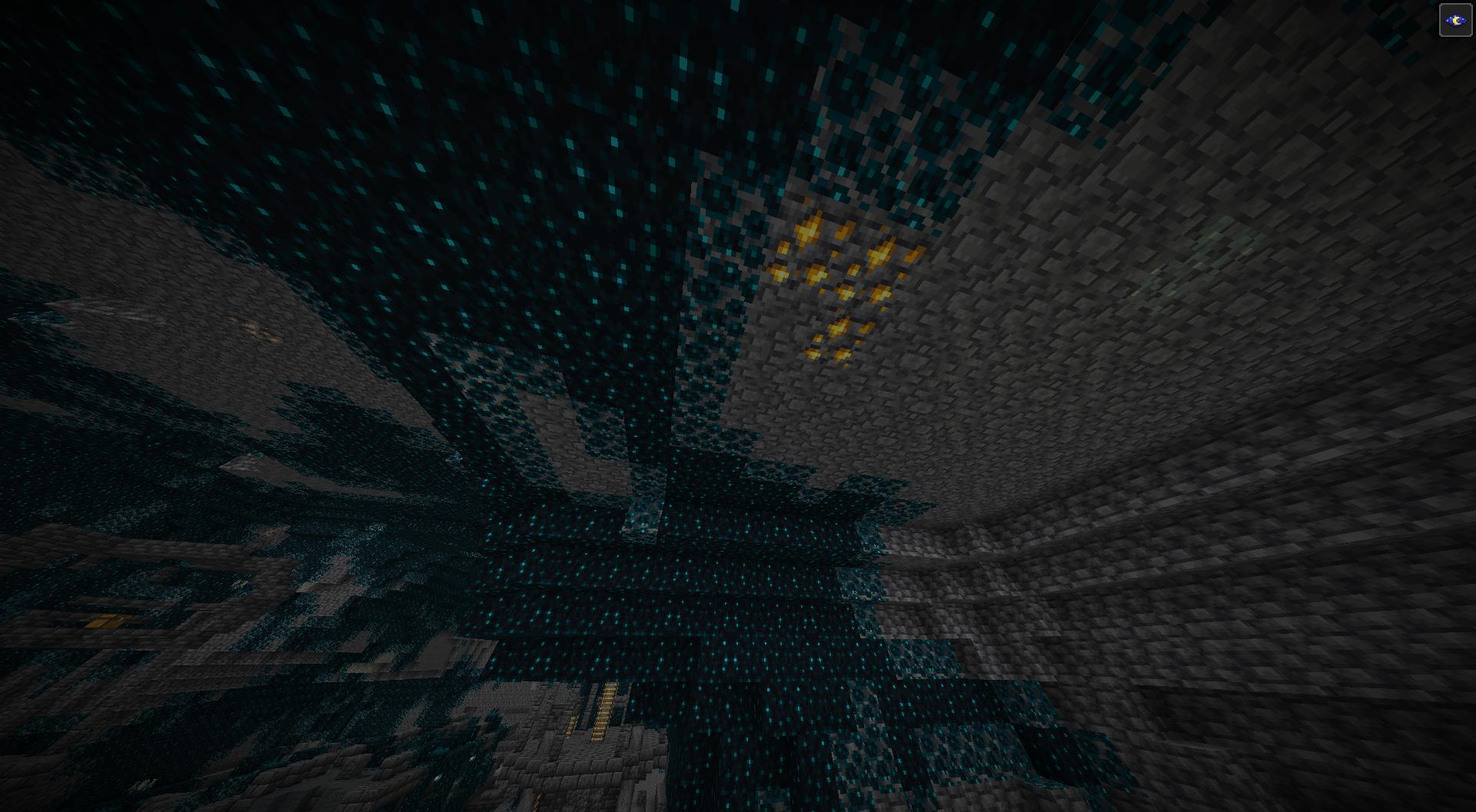gold ore: (839, 225, 929, 314), (762, 203, 845, 294), (808, 312, 874, 371)
iron ore: (233, 315, 282, 349)
